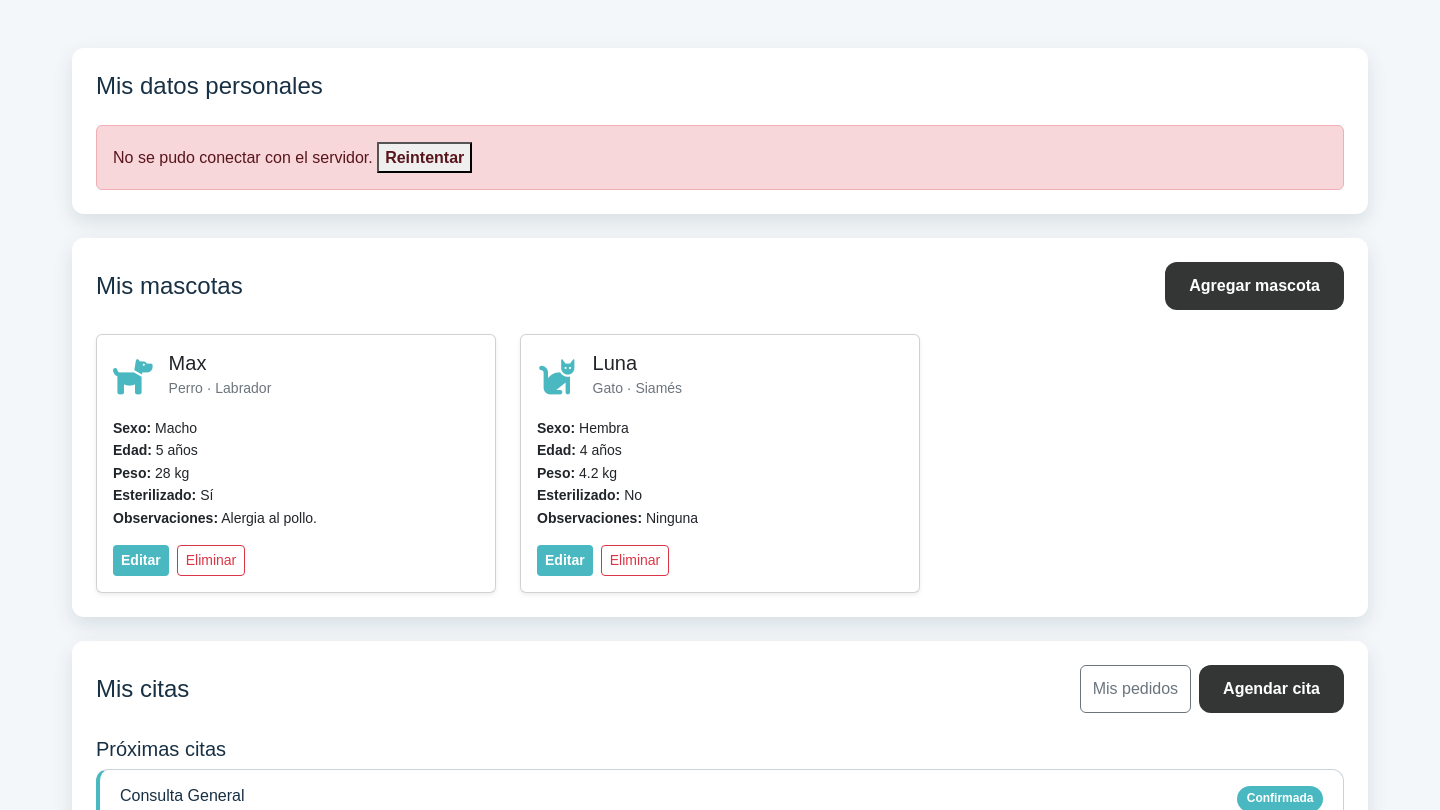
Test: MiPerfil › si no puede cargar los datos personales, lo avisa y permite reintentar
The image size is (1440, 810).
Expected: the text "No se pudo conectar con el servidor. Reintentar" is shown, [96,125,1344,190]
Click the button "Reintentar": (425, 158) [377,142,472,173]
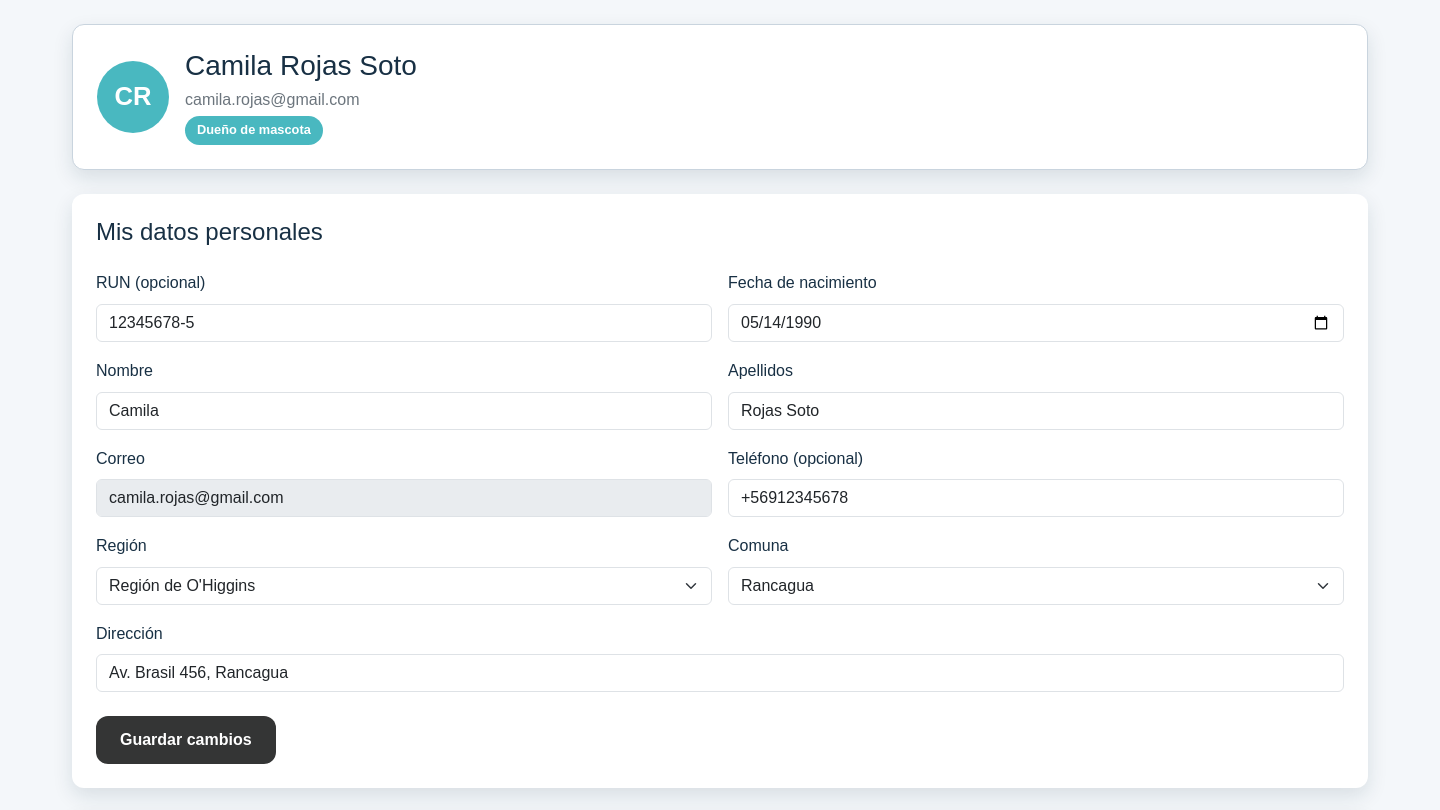
Expected: the field labelled "Nombre" holds "Camila", [96,392,712,430]
